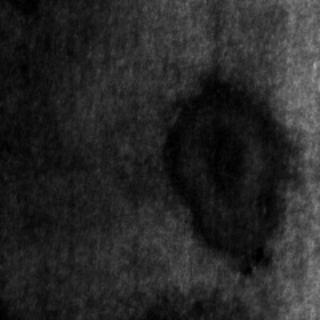patches: (162, 71, 286, 259)
